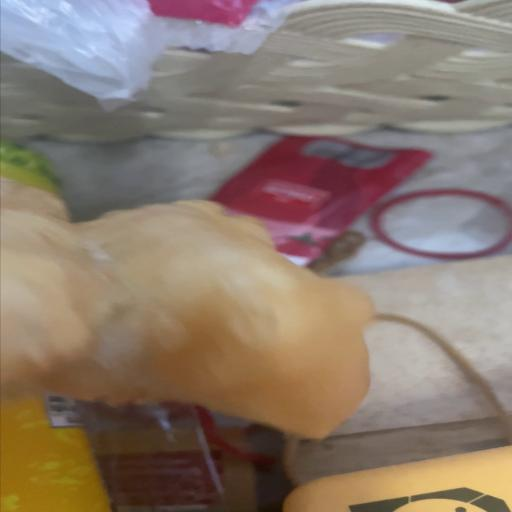street_golden_defect: (0, 191, 375, 437)
